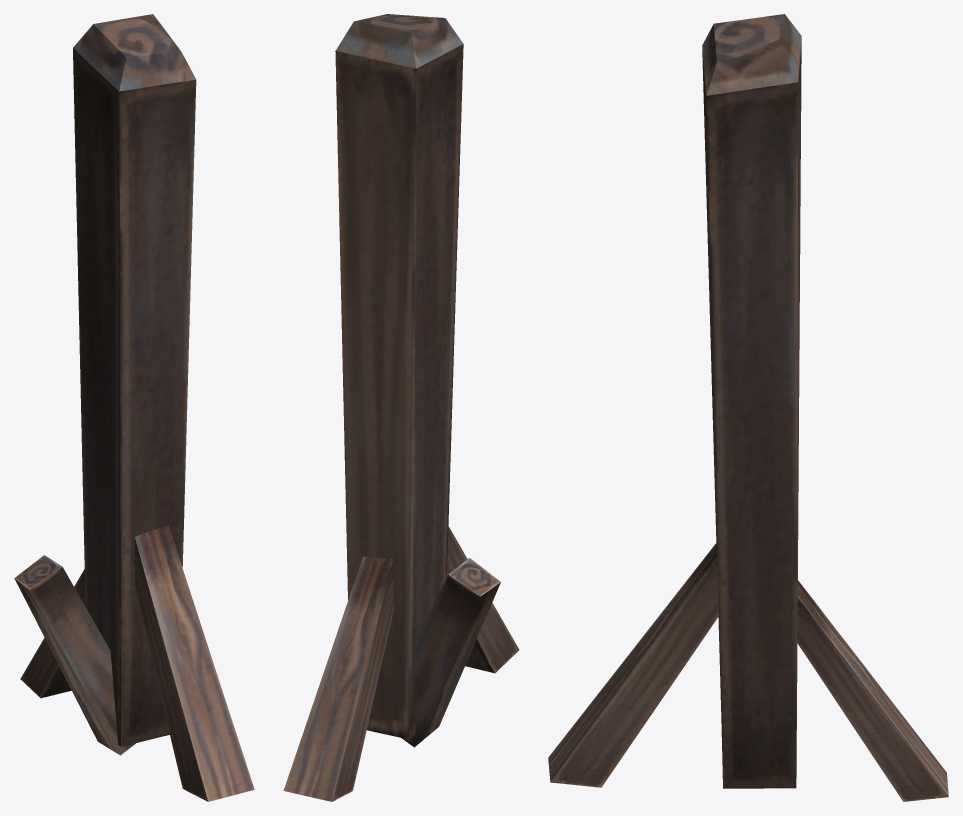
The model's file is wood_arm01.fbx.
3 views of the same model, side by side, from view 1: azimuth 30°, elevation 25°; view 2: azimuth 150°, elevation 25°; view 3: azimuth 270°, elevation 25° (orthographic). The views are drawn at different scales.
Parts seen in each view (by area): view 1: mine_supports; view 2: mine_supports; view 3: mine_supports.
Part boxes in pixels (bbox=[...]): mine_supports: bbox=[14, 14, 254, 801]; mine_supports: bbox=[283, 14, 519, 801]; mine_supports: bbox=[548, 14, 948, 801].
Bounding box in the file's own units: 0.911 × 4.27 × 2.04.
